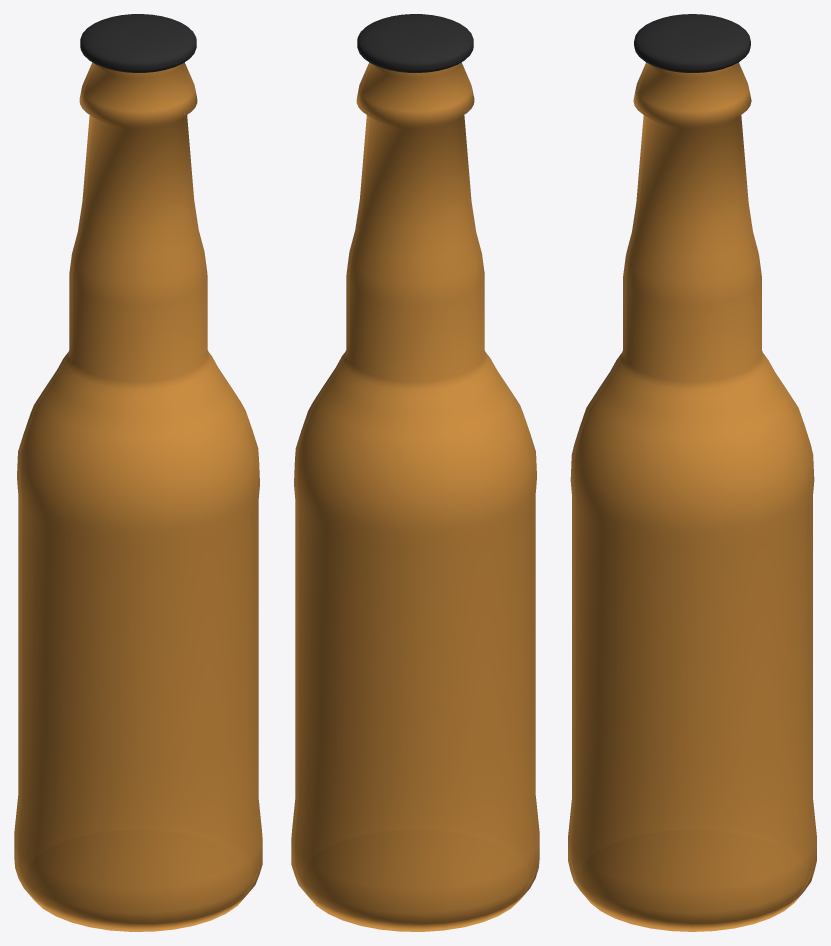
The model's file is bearBottle10.gltf.
3 views of the same model, side by side, from view 1: azimuth 30°, elevation 25°; view 2: azimuth 150°, elevation 25°; view 3: azimuth 270°, elevation 25° (orthographic).
Visible parts, largest first — view 1: Cylinder, Cylinder.001; view 2: Cylinder, Cylinder.001; view 3: Cylinder, Cylinder.001.
Part boxes in pixels (x1,y1,x2,y2): Cylinder: [14, 62, 262, 931]; Cylinder.001: [80, 14, 196, 72]; Cylinder: [291, 62, 539, 931]; Cylinder.001: [357, 14, 473, 72]; Cylinder: [568, 62, 816, 931]; Cylinder.001: [634, 14, 750, 72].
Bounding box in the file's own units: 1.88 × 7.17 × 1.88.
